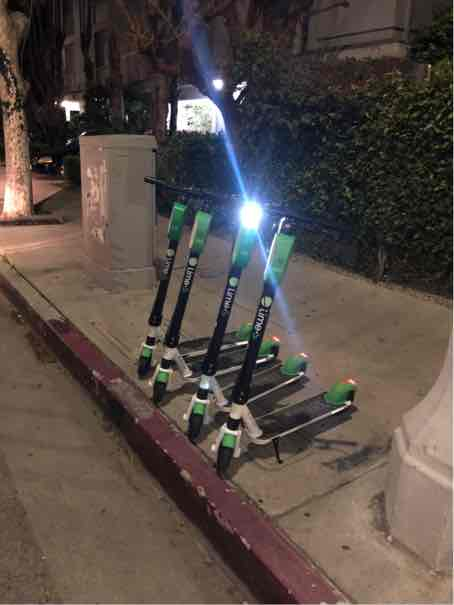too close: (178, 429, 262, 532)
